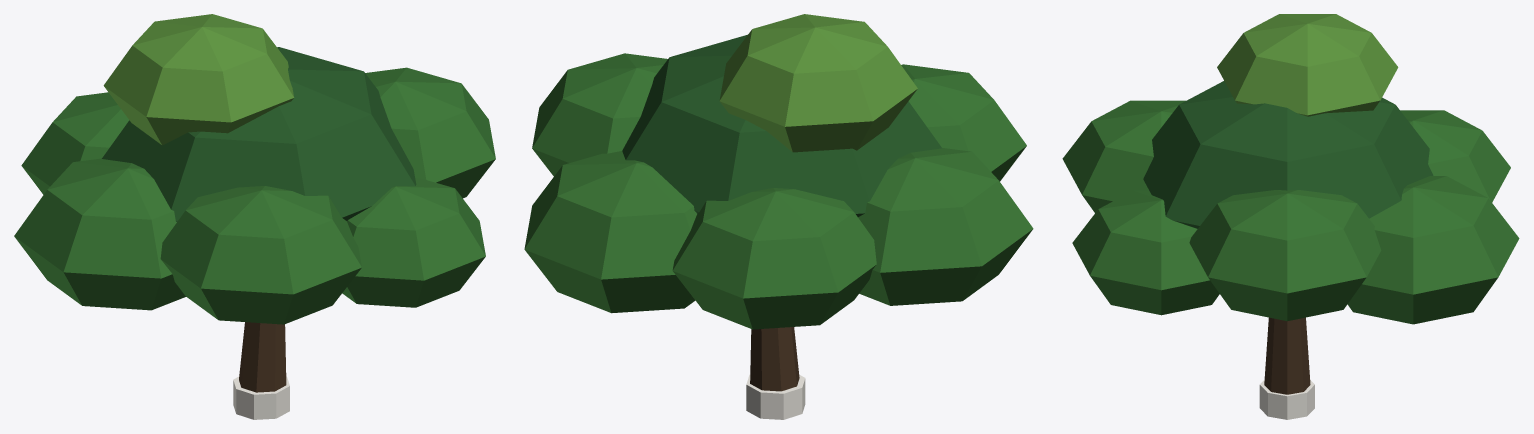
File: arbol_antiguo_1.obj
3 renders of one model, left to right at view 1: azimuth 30°, elevation 25°; view 2: azimuth 150°, elevation 25°; view 3: azimuth 270°, elevation 25°, orthographic. The views are drawn at different scales.
Visible parts, largest first — view 1: arbol_antiguo_1; view 2: arbol_antiguo_1; view 3: arbol_antiguo_1.
Part boxes in pixels (x1,y1,x2,y2): arbol_antiguo_1: (14,14,495,419); arbol_antiguo_1: (524,14,1033,419); arbol_antiguo_1: (1062,14,1519,419).
Size of the model in its own units: 16.82 by 13.78 by 15.71.
